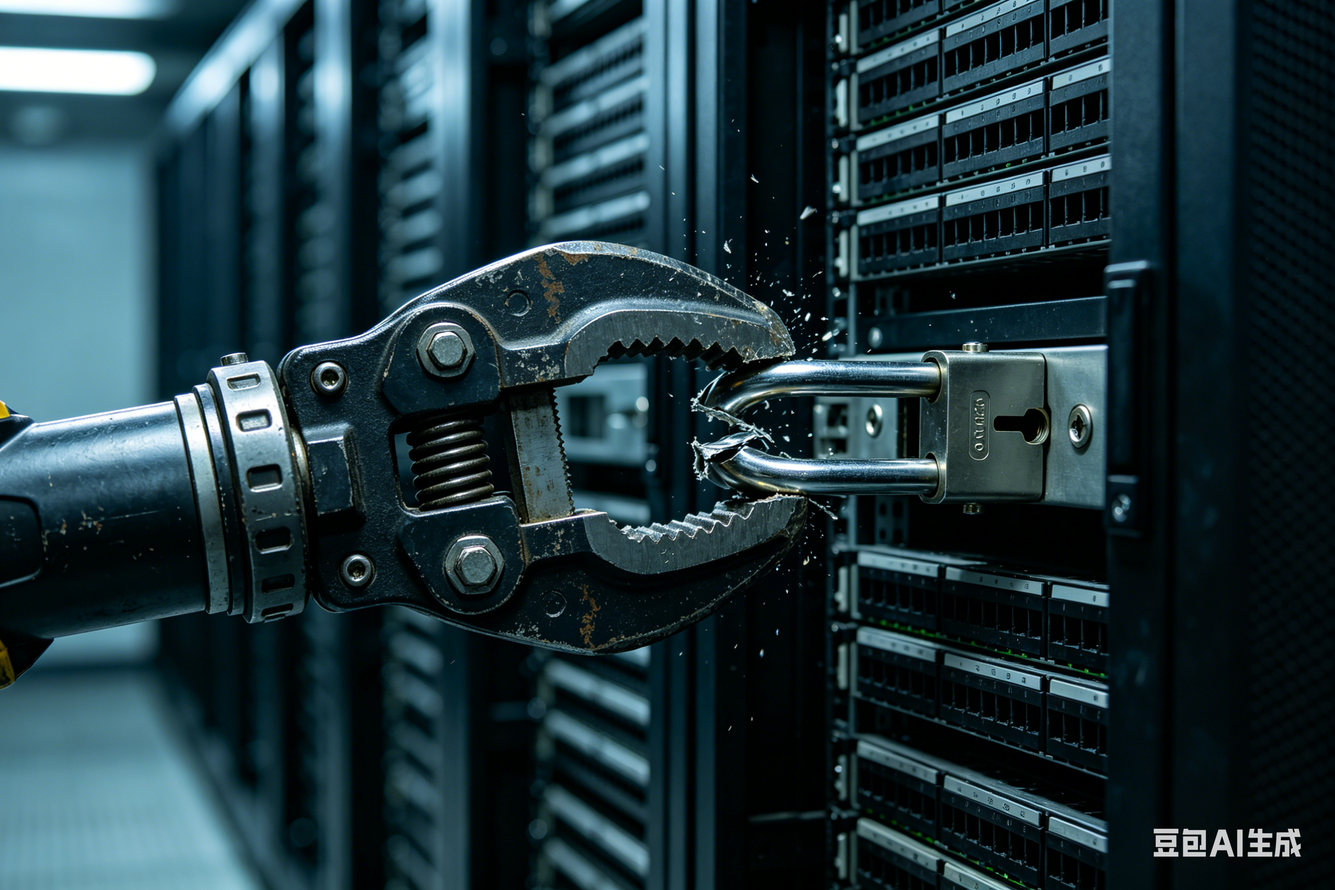BadLock: (675, 342, 903, 508)
